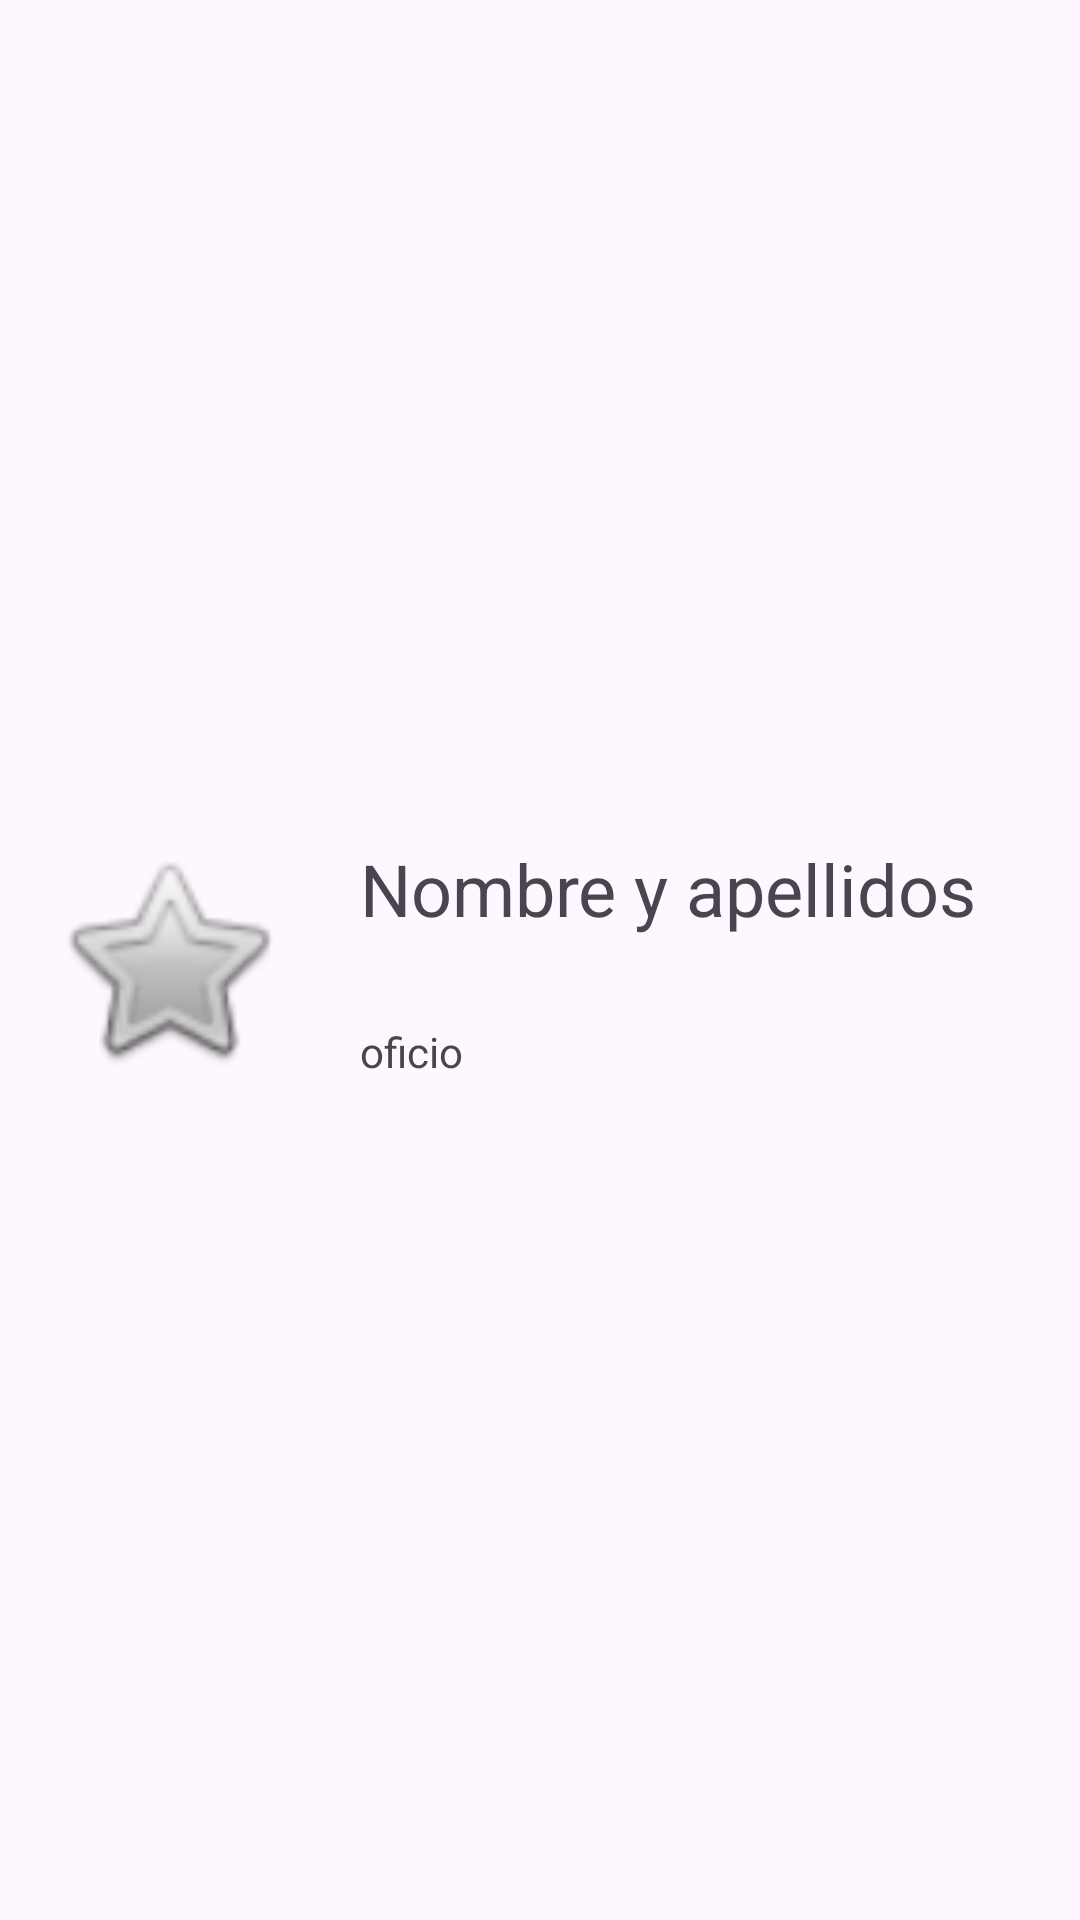

Locate icon controls on the screen. Image size 1080*1920, boxes as detection(x1, y1, x2, y2).
star: detection(70, 864, 270, 1060)
